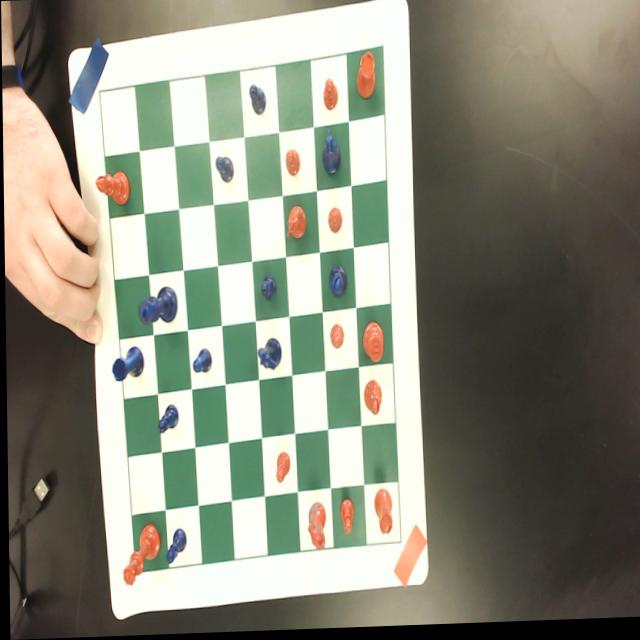B: (327, 265, 346, 301)
K: (136, 286, 177, 326)
N: (255, 337, 280, 372), (321, 130, 339, 177)
P: (162, 528, 185, 567), (155, 404, 178, 436), (213, 153, 233, 186), (247, 84, 265, 118), (190, 348, 210, 377), (259, 273, 275, 305)
R: (108, 345, 142, 384)
b: (93, 171, 128, 206), (362, 382, 380, 419)
k: (360, 322, 382, 367)
n: (304, 502, 325, 555), (283, 204, 307, 243)
p: (320, 79, 338, 114), (271, 452, 289, 485), (337, 498, 352, 537), (284, 150, 299, 177), (327, 208, 341, 236), (328, 325, 343, 351)
q: (120, 523, 158, 587)
r: (355, 53, 375, 101), (371, 490, 390, 538)
